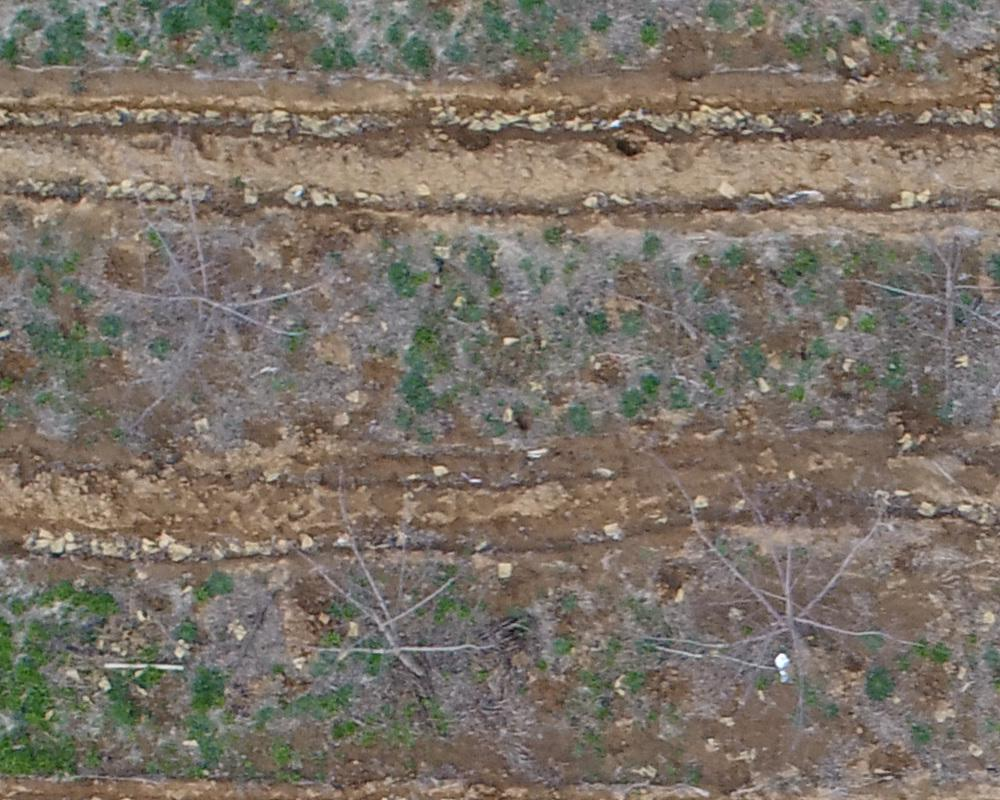apple: (656, 471, 919, 716), (296, 483, 495, 698), (115, 167, 324, 370), (848, 202, 990, 391), (614, 256, 727, 362)
